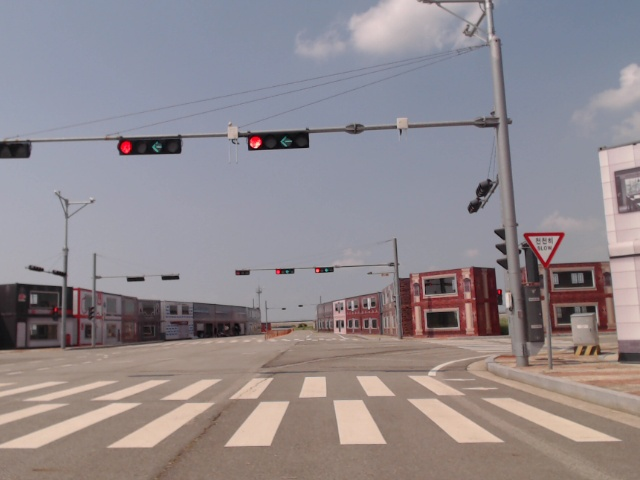left_green_4: (251, 132, 307, 151), (118, 140, 181, 156), (314, 267, 334, 273), (276, 269, 296, 274)
